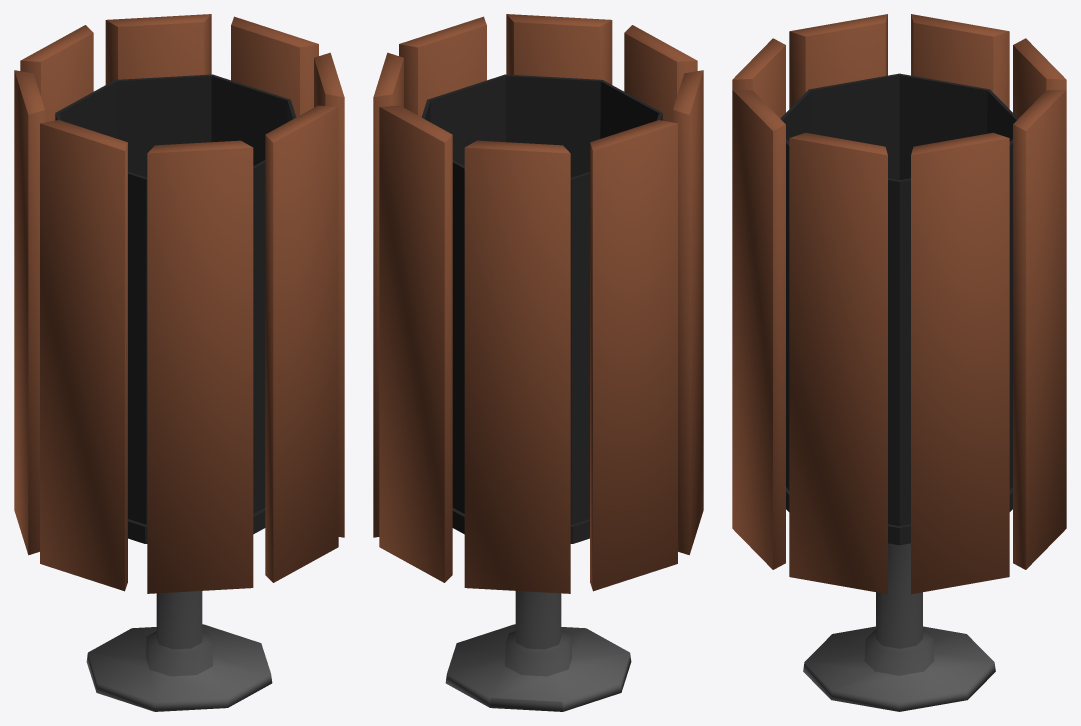
The model's file is basket.FBX.
3 renders of one model, left to right at view 1: azimuth 30°, elevation 25°; view 2: azimuth 150°, elevation 25°; view 3: azimuth 270°, elevation 25°, orthographic.
Visible parts, largest first — view 1: basket; view 2: basket; view 3: basket.
Part boxes in pixels (x1=…): basket: x1=14, y1=14, x2=344, y2=711; basket: x1=373, y1=14, x2=703, y2=711; basket: x1=732, y1=14, x2=1066, y2=711.
Bounding box in the file's own units: 34.41 × 66.61 × 34.41.
